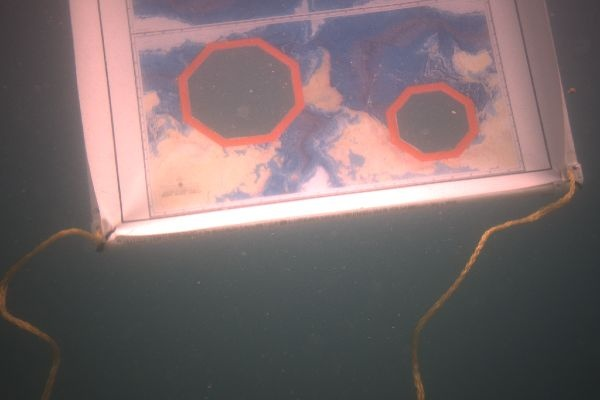torpille: (68, 0, 572, 234)
torpille_target: (176, 37, 302, 145), (386, 83, 478, 161)
